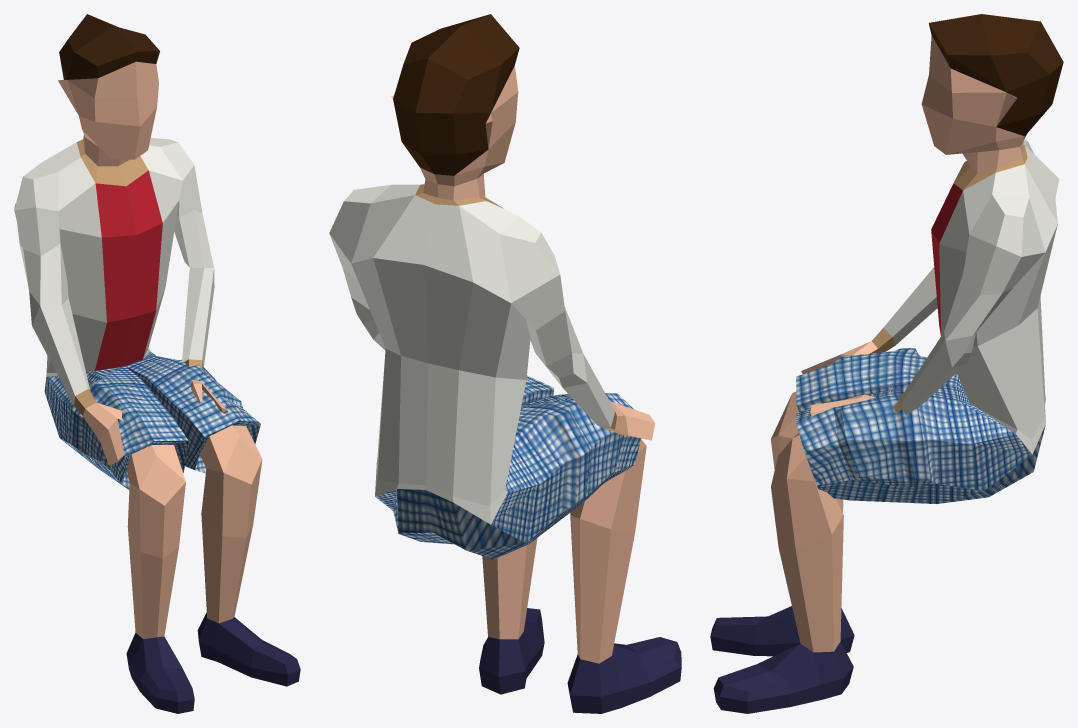
File: SpringBoy.008.glb
3 views of the same model, side by side, from view 1: azimuth 30°, elevation 25°; view 2: azimuth 150°, elevation 25°; view 3: azimuth 270°, elevation 25° (orthographic). The views are drawn at different scales.
Visible parts, largest first — view 1: SpringBoy.008; view 2: SpringBoy.008; view 3: SpringBoy.008.
Boxes of the visible parts, bbox=[...] form: SpringBoy.008: bbox=[14, 14, 300, 713]; SpringBoy.008: bbox=[329, 14, 681, 713]; SpringBoy.008: bbox=[710, 14, 1063, 713].
Size of the model in its own units: 0.3197 by 0.98 by 0.4768.
Materials: 1 (1 with a texture image).
